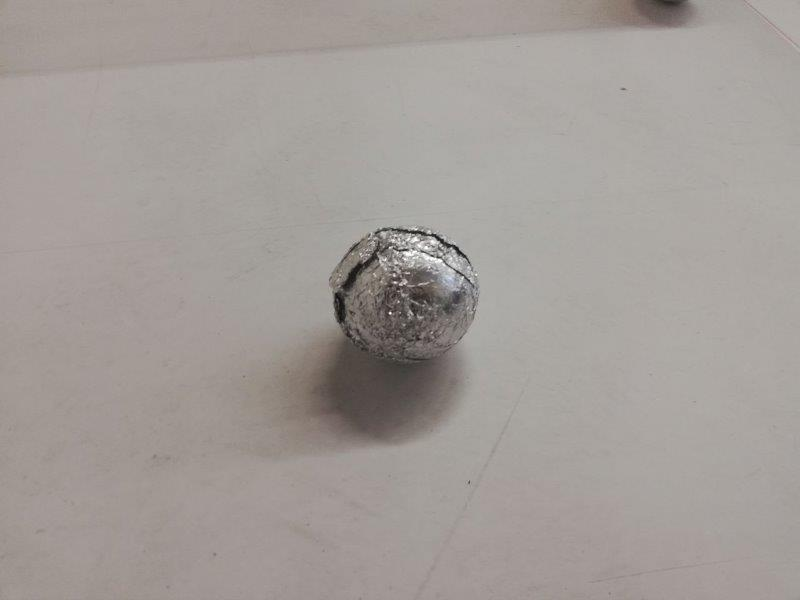bianca: (328, 226, 480, 366)
